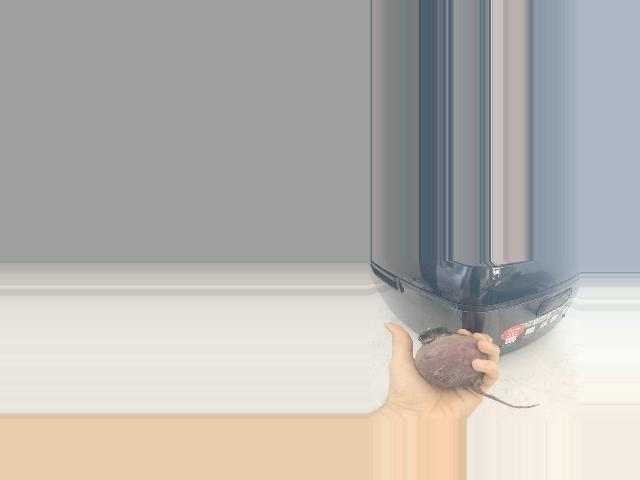beet: (415, 327, 539, 409)
